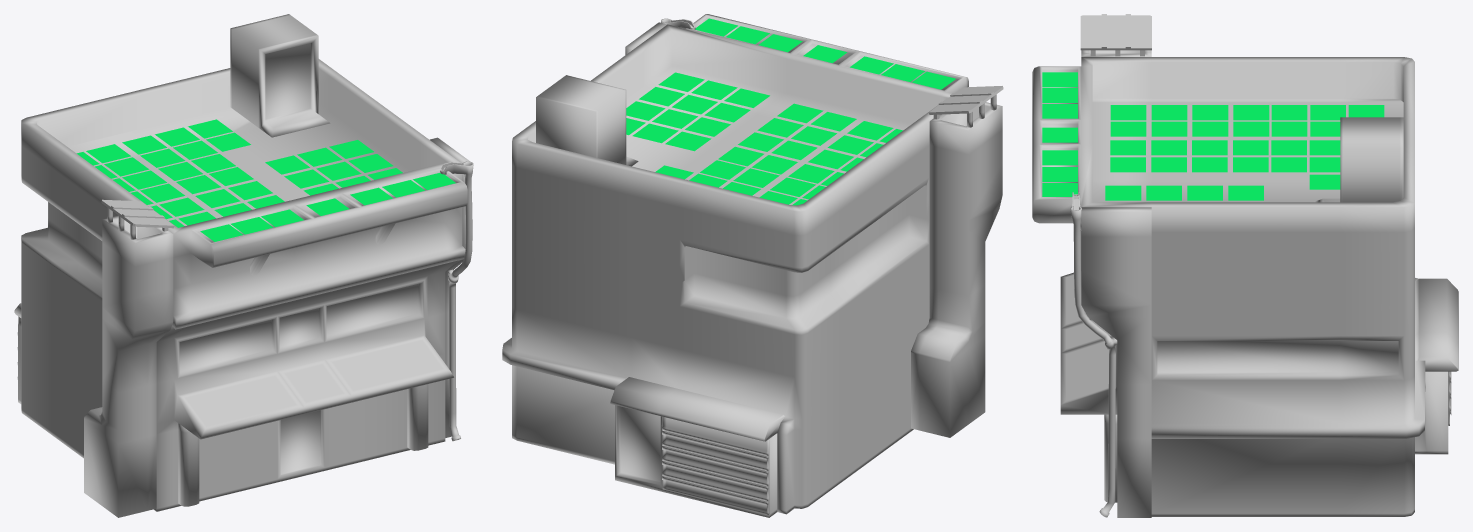
Rendered from sm_building_05.gltf.
3 views of the same model, side by side, from view 1: azimuth 30°, elevation 25°; view 2: azimuth 150°, elevation 25°; view 3: azimuth 270°, elevation 25° (orthographic). The views are drawn at different scales.
Visible parts, largest first — view 1: sm_farmbuilding_tall_05; view 2: sm_farmbuilding_tall_05; view 3: sm_farmbuilding_tall_05, GridSpace495.007, GridSpace495.008, GridSpace495.040, GridSpace495.041, GridSpace495.045, GridSpace495.005, GridSpace495.006, GridSpace495.017, GridSpace495.018, GridSpace495.021, GridSpace495.022 (+25 smaller).
Boxes of the visible parts, box(x1,y1,x2,y2) form: sm_farmbuilding_tall_05: box(14, 14, 473, 517); sm_farmbuilding_tall_05: box(502, 14, 1003, 517); sm_farmbuilding_tall_05: box(1032, 14, 1458, 517); GridSpace495.007: box(1233, 105, 1269, 120); GridSpace495.008: box(1233, 121, 1269, 136); GridSpace495.040: box(1192, 105, 1228, 120); GridSpace495.041: box(1192, 121, 1228, 136); GridSpace495.045: box(1105, 185, 1141, 200); GridSpace495.005: box(1271, 105, 1307, 120); GridSpace495.006: box(1271, 121, 1307, 136); GridSpace495.017: box(1151, 105, 1187, 120); GridSpace495.018: box(1151, 121, 1187, 136); GridSpace495.021: box(1110, 105, 1146, 120); GridSpace495.022: box(1110, 121, 1146, 136).
Size of what is drawn, in the model's own units: 11.67 by 11.04 by 11.94.
